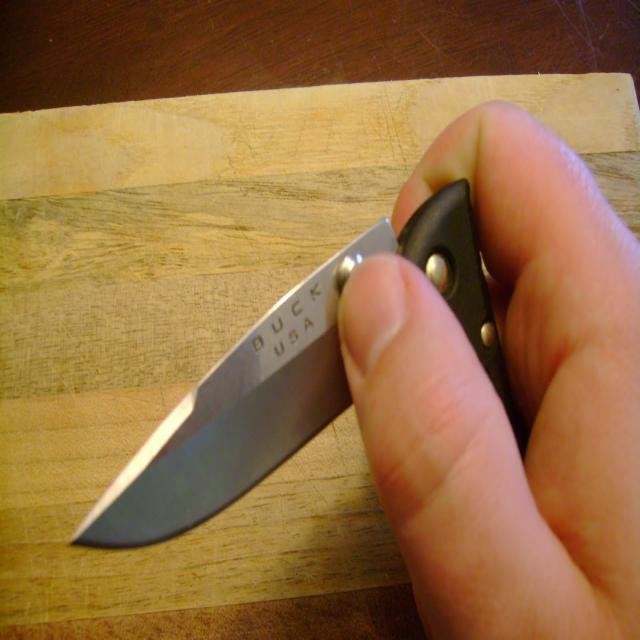knife: (64, 216, 349, 578)
